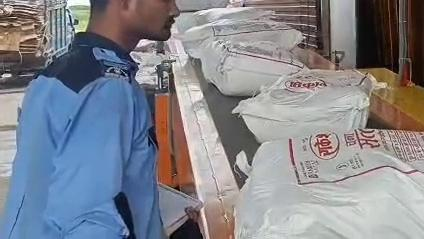box: (235, 128, 424, 238), (232, 70, 378, 142), (202, 40, 307, 96), (182, 19, 303, 59)
